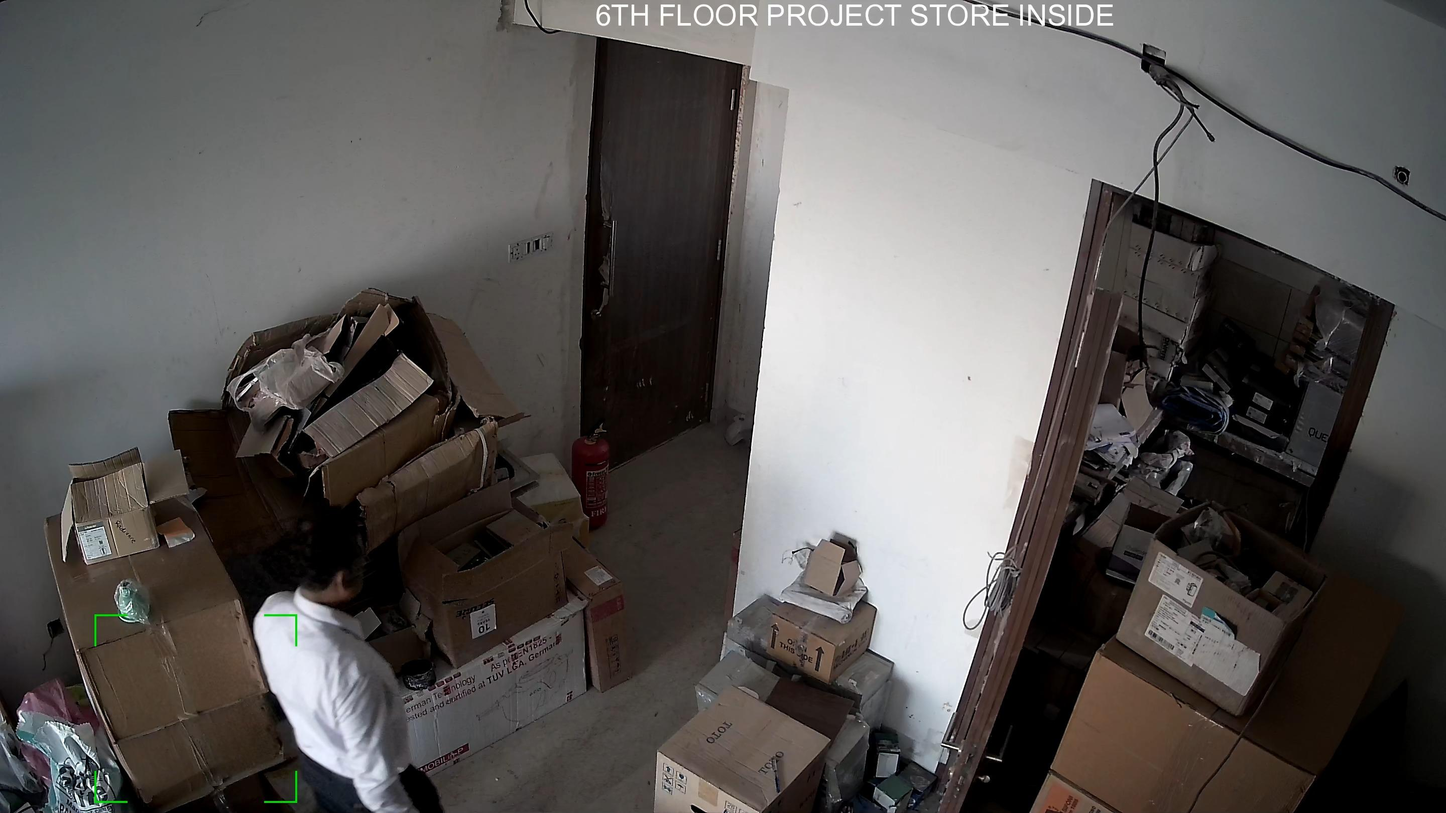Door-Close: (569, 29, 758, 479)
